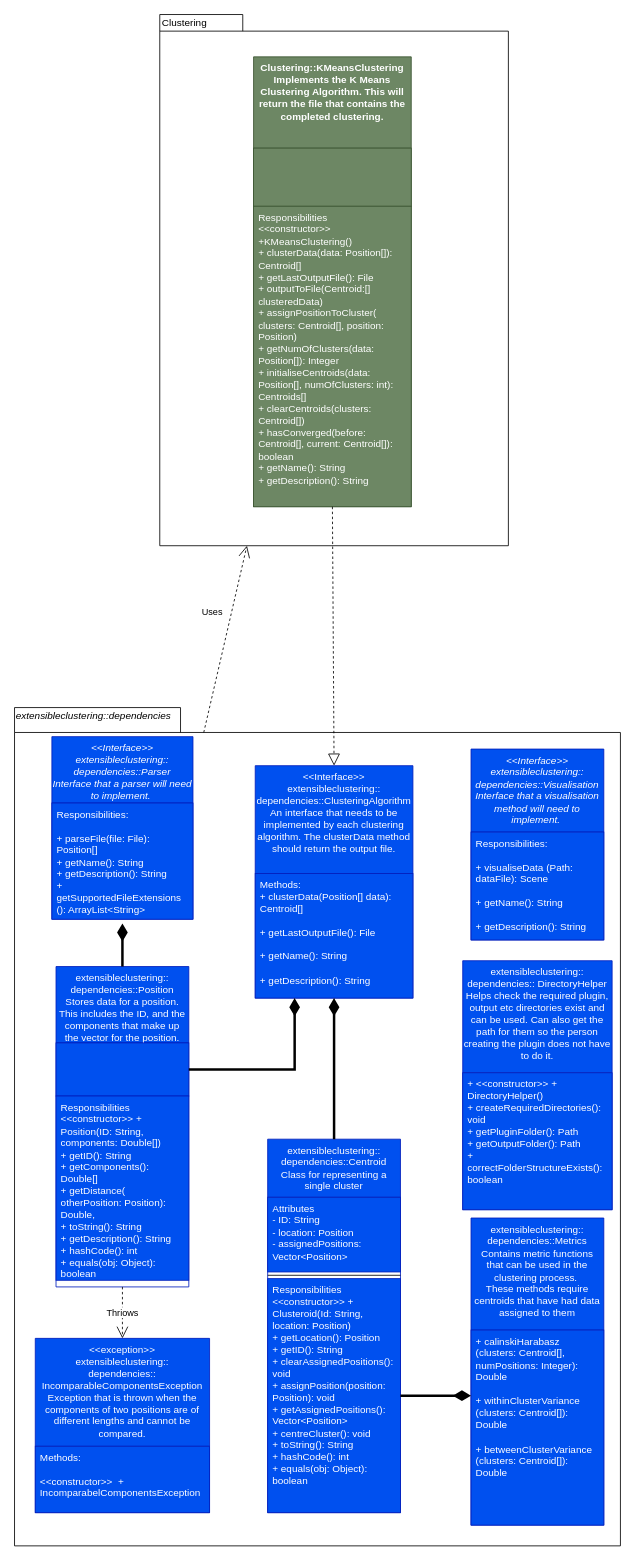
Some shapes in this 635 by 1560 pixel diagram are drawn without their labels. Here are the shapes that lost their labels. From the top down, the box of each, then its label:
(253, 147, 411, 206): Attributes - name: String - description: String - lastOutputFile: File
(55, 1042, 189, 1096): Attributes - ID: String - Components: Double[]
